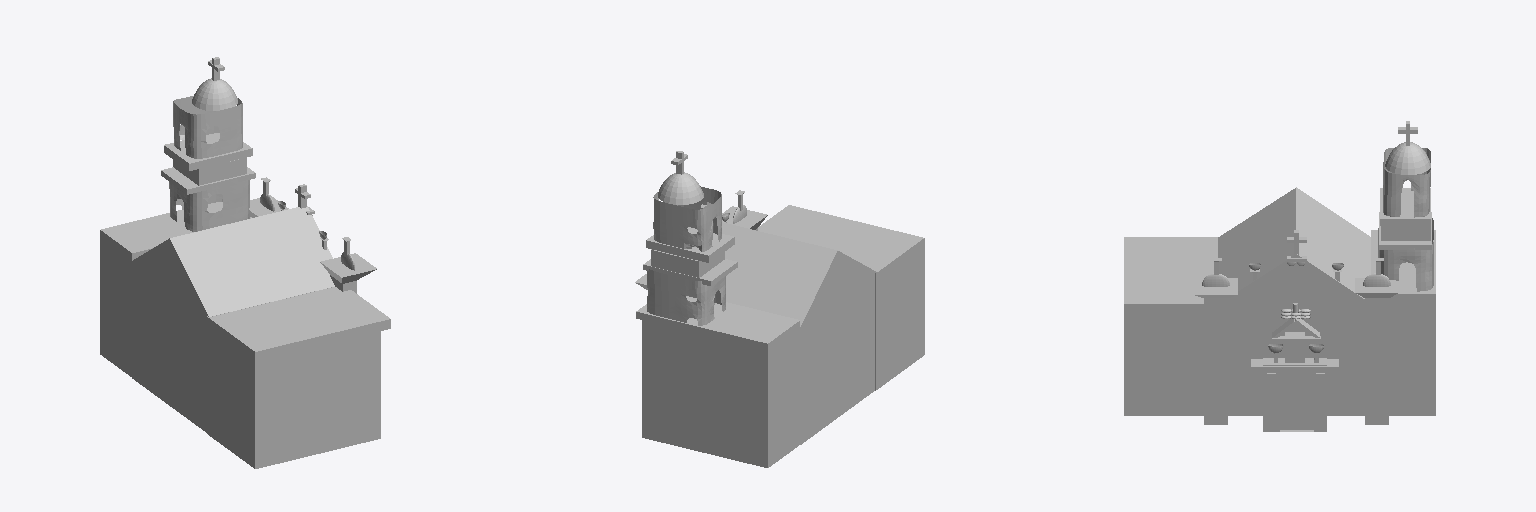
File: CentralBuildingTexture.obj
The picture shows the model from 3 angles: view 1: azimuth 30°, elevation 25°; view 2: azimuth 150°, elevation 25°; view 3: azimuth 270°, elevation 25°; orthographic projection.
Visible parts, largest first — view 1: CentralBuilding:Central_Building CentralBuilding:Side_l, CentralBuilding:Middle CentralBuilding:Central_Building, CentralBuilding:Central_Building CentralBuilding:Side_r, CentralBuilding:Central_Building CentralBuilding:Tower_Bottom1, CentralBuilding:Central_Building CentralBuilding:Tower_Bottom2, CentralBuilding:Central_Building CentralBuilding:pCube20, CentralBuilding:Central_Building CentralBuilding:pSphere21, CentralBuilding:Central_Building CentralBuilding:FrontPillar_l, CentralBuilding:Central_Building CentralBuilding:pCube2, CentralBuilding:Central_Building CentralBuilding:pCube19; view 2: CentralBuilding:Central_Building CentralBuilding:Side_r, CentralBuilding:Middle CentralBuilding:Central_Building, CentralBuilding:Central_Building CentralBuilding:Side_l, CentralBuilding:Central_Building CentralBuilding:Tower_Bottom1, CentralBuilding:Central_Building CentralBuilding:Tower_Bottom2, CentralBuilding:Central_Building CentralBuilding:pSphere21, CentralBuilding:Central_Building CentralBuilding:pCube20, CentralBuilding:Central_Building CentralBuilding:pCube2, CentralBuilding:Central_Building CentralBuilding:pCube19; view 3: CentralBuilding:Middle CentralBuilding:Central_Building, CentralBuilding:Central_Building CentralBuilding:Side_l, CentralBuilding:Central_Building CentralBuilding:Side_r, CentralBuilding:Central_Building CentralBuilding:FrontPillar_l, CentralBuilding:Central_Building CentralBuilding:FrontPillar_r, CentralBuilding:Central_Building CentralBuilding:Front_lower, CentralBuilding:Central_Building CentralBuilding:Tower_Bottom1, CentralBuilding:Central_Building CentralBuilding:Tower_Bottom2, CentralBuilding:Central_Building CentralBuilding:pSphere21, CentralBuilding:Central_Building CentralBuilding:pCube20, CentralBuilding:Central_Building CentralBuilding:pCube2, CentralBuilding:Central_Building CentralBuilding:pCube10 (+2 smaller).
Part boxes in pixels (bbox=[...]): CentralBuilding:Central_Building CentralBuilding:Side_l: bbox=[207, 287, 390, 468]; CentralBuilding:Middle CentralBuilding:Central_Building: bbox=[132, 206, 334, 432]; CentralBuilding:Central_Building CentralBuilding:Side_r: bbox=[100, 202, 251, 376]; CentralBuilding:Central_Building CentralBuilding:Tower_Bottom1: bbox=[173, 96, 242, 158]; CentralBuilding:Central_Building CentralBuilding:Tower_Bottom2: bbox=[169, 179, 249, 231]; CentralBuilding:Central_Building CentralBuilding:pCube20: bbox=[164, 133, 252, 170]; CentralBuilding:Central_Building CentralBuilding:pSphere21: bbox=[192, 78, 237, 110]; CentralBuilding:Central_Building CentralBuilding:FrontPillar_l: bbox=[320, 253, 376, 293]; CentralBuilding:Central_Building CentralBuilding:pCube2: bbox=[173, 158, 246, 185]; CentralBuilding:Central_Building CentralBuilding:pCube19: bbox=[161, 167, 255, 194]; CentralBuilding:Central_Building CentralBuilding:Side_r: bbox=[636, 296, 799, 467]; CentralBuilding:Middle CentralBuilding:Central_Building: bbox=[722, 222, 876, 444]; CentralBuilding:Central_Building CentralBuilding:Side_l: bbox=[758, 205, 924, 390]; CentralBuilding:Central_Building CentralBuilding:Tower_Bottom1: bbox=[653, 186, 721, 251]; CentralBuilding:Central_Building CentralBuilding:Tower_Bottom2: bbox=[647, 269, 725, 325]; CentralBuilding:Central_Building CentralBuilding:pSphere21: bbox=[658, 172, 703, 204]; CentralBuilding:Central_Building CentralBuilding:pCube20: bbox=[646, 227, 734, 262]; CentralBuilding:Central_Building CentralBuilding:pCube2: bbox=[651, 249, 724, 277]; CentralBuilding:Central_Building CentralBuilding:pCube19: bbox=[643, 259, 737, 286]; CentralBuilding:Middle CentralBuilding:Central_Building: bbox=[1218, 187, 1370, 415]; CentralBuilding:Central_Building CentralBuilding:Side_l: bbox=[1124, 237, 1217, 415]; CentralBuilding:Central_Building CentralBuilding:Side_r: bbox=[1371, 230, 1435, 415]; CentralBuilding:Central_Building CentralBuilding:FrontPillar_l: bbox=[1194, 278, 1237, 424]; CentralBuilding:Central_Building CentralBuilding:FrontPillar_r: bbox=[1355, 278, 1398, 424]; CentralBuilding:Central_Building CentralBuilding:Front_lower: bbox=[1263, 358, 1326, 431]; CentralBuilding:Central_Building CentralBuilding:Tower_Bottom1: bbox=[1383, 148, 1430, 217]; CentralBuilding:Central_Building CentralBuilding:Tower_Bottom2: bbox=[1378, 218, 1433, 291]; CentralBuilding:Central_Building CentralBuilding:pSphere21: bbox=[1385, 142, 1430, 174]; CentralBuilding:Central_Building CentralBuilding:pCube20: bbox=[1380, 188, 1430, 225]; CentralBuilding:Central_Building CentralBuilding:pCube2: bbox=[1381, 226, 1430, 240]; CentralBuilding:Central_Building CentralBuilding:pCube10: bbox=[1251, 359, 1338, 372].
Bounding box in the file's own units: 5.61 × 9.89 × 9.64.